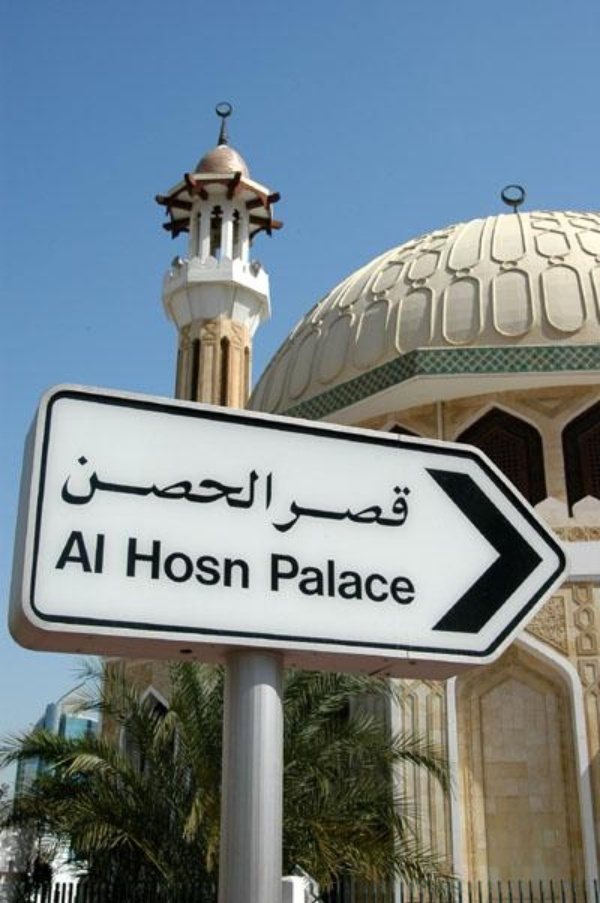text: (129, 533, 144, 596), (145, 533, 160, 596), (161, 533, 176, 596), (177, 533, 192, 596), (193, 533, 208, 596), (209, 533, 224, 596), (225, 533, 240, 596), (273, 550, 288, 610), (289, 550, 304, 610), (305, 550, 320, 610), (321, 550, 336, 610), (337, 550, 352, 610), (353, 550, 368, 610), (369, 550, 384, 610), (385, 550, 400, 610), (401, 550, 416, 610), (65, 455, 80, 515), (81, 455, 96, 515), (97, 455, 112, 515), (113, 455, 128, 515), (129, 455, 144, 515), (145, 455, 160, 515), (161, 455, 176, 515), (177, 455, 192, 515), (193, 455, 208, 515), (209, 455, 224, 515), (225, 455, 240, 515), (241, 455, 256, 515), (257, 455, 272, 515), (241, 533, 254, 596), (289, 483, 304, 536), (305, 483, 320, 536), (321, 483, 336, 536), (337, 483, 352, 536), (353, 483, 368, 536), (369, 483, 384, 536), (385, 483, 400, 536), (401, 483, 416, 536), (65, 527, 80, 574), (81, 527, 96, 574), (277, 483, 288, 536), (97, 527, 107, 574), (266, 550, 272, 610), (123, 533, 128, 596), (59, 455, 64, 515), (273, 455, 277, 515), (417, 550, 419, 610)
